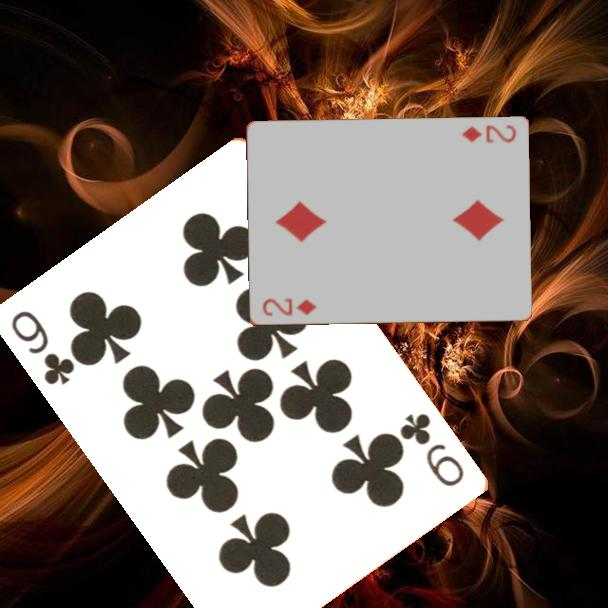c09: (396, 409, 468, 490), (8, 307, 79, 388)
d02: (458, 121, 519, 146), (259, 295, 319, 319)
